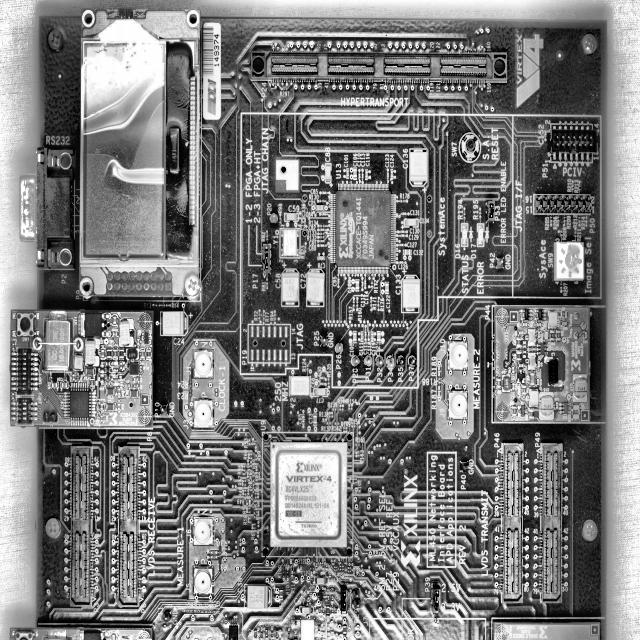PCB: (11, 12, 608, 640)
